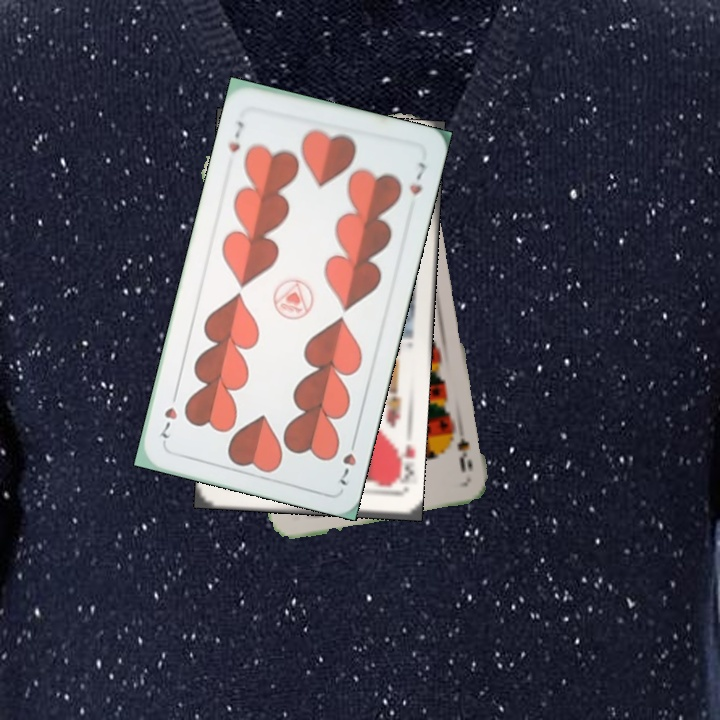H7: (335, 432, 360, 488), (224, 117, 247, 155)
HK: (388, 438, 417, 494)
S9: (445, 423, 475, 475)
